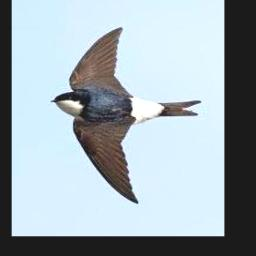Swallow: (50, 26, 202, 203)
